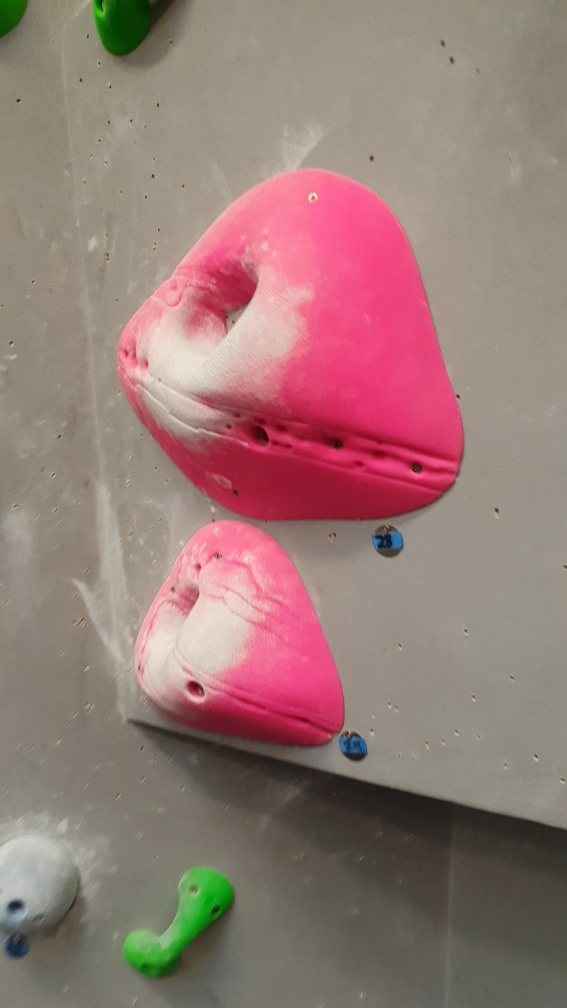Hand Start: (364, 520, 408, 564), (338, 726, 373, 773)
Pocket: (111, 166, 470, 524), (122, 519, 351, 755)
